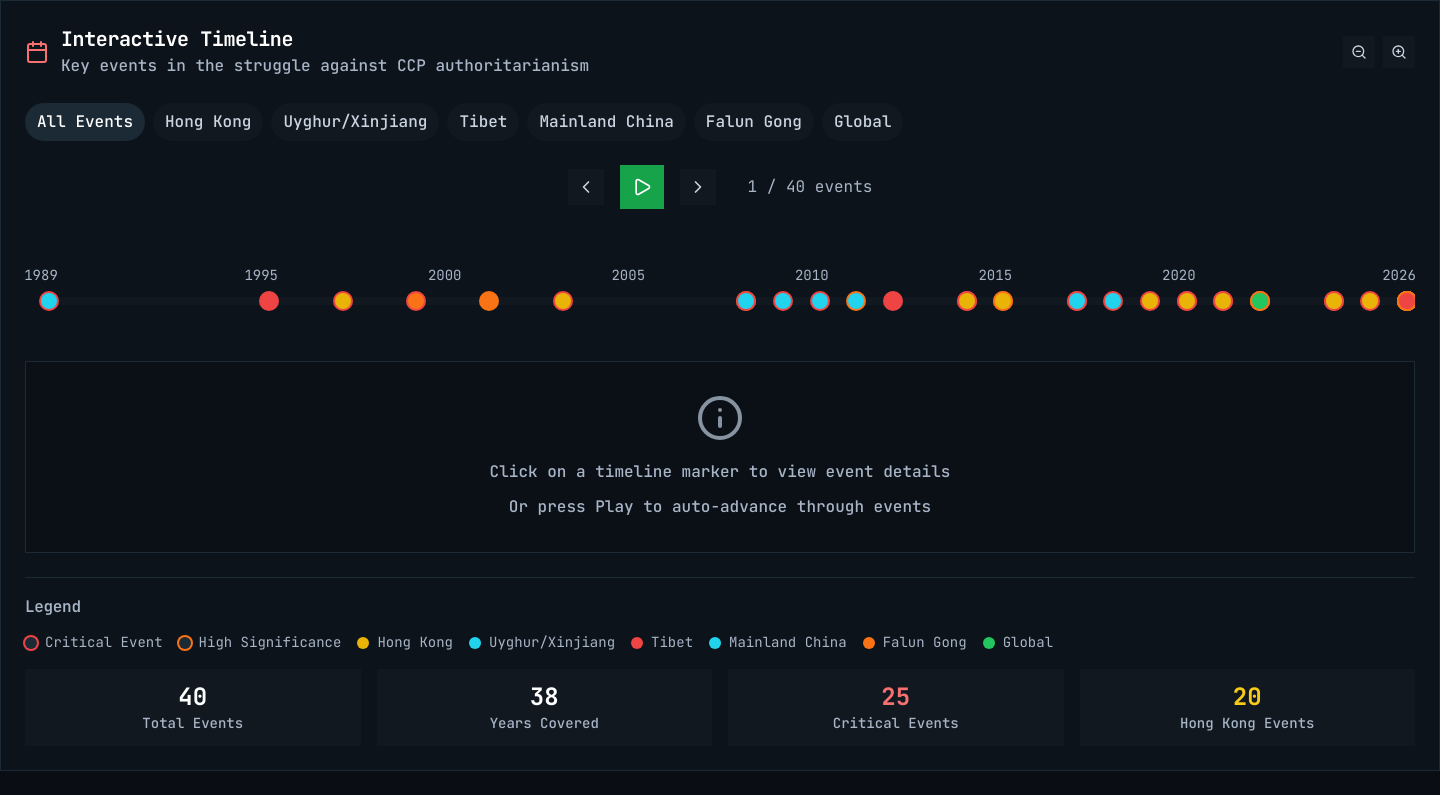
Scenario: InteractiveTimeline › wraps around when navigating past the last event
The width and height of the screenshot is (1440, 795).
# Click Previous from index 0 to wrap to last
Click the button named "Previous event" at (586, 187), box [568,169,604,205]
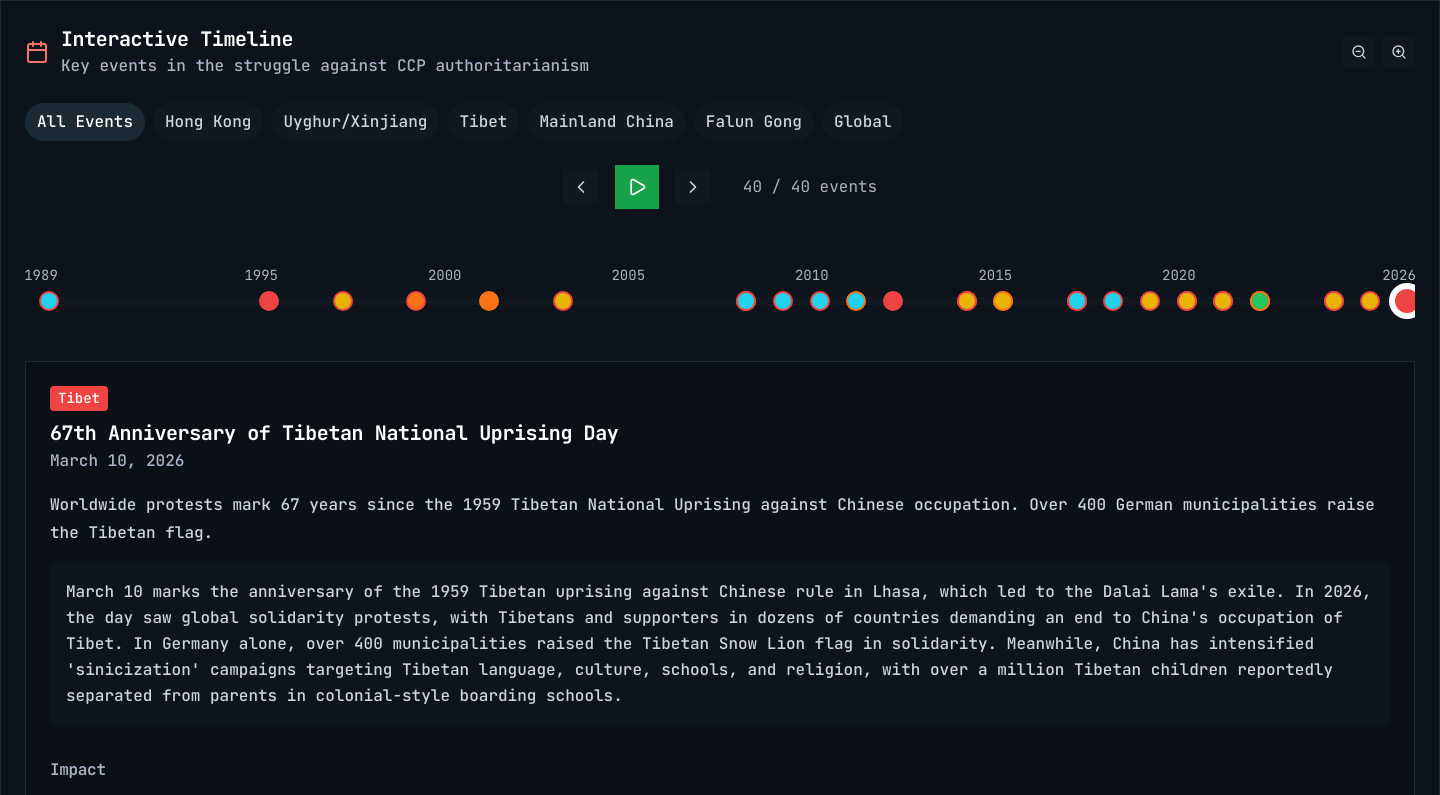
Check: the text "40 / 40 events" is shown, box [743,174,877,200]
